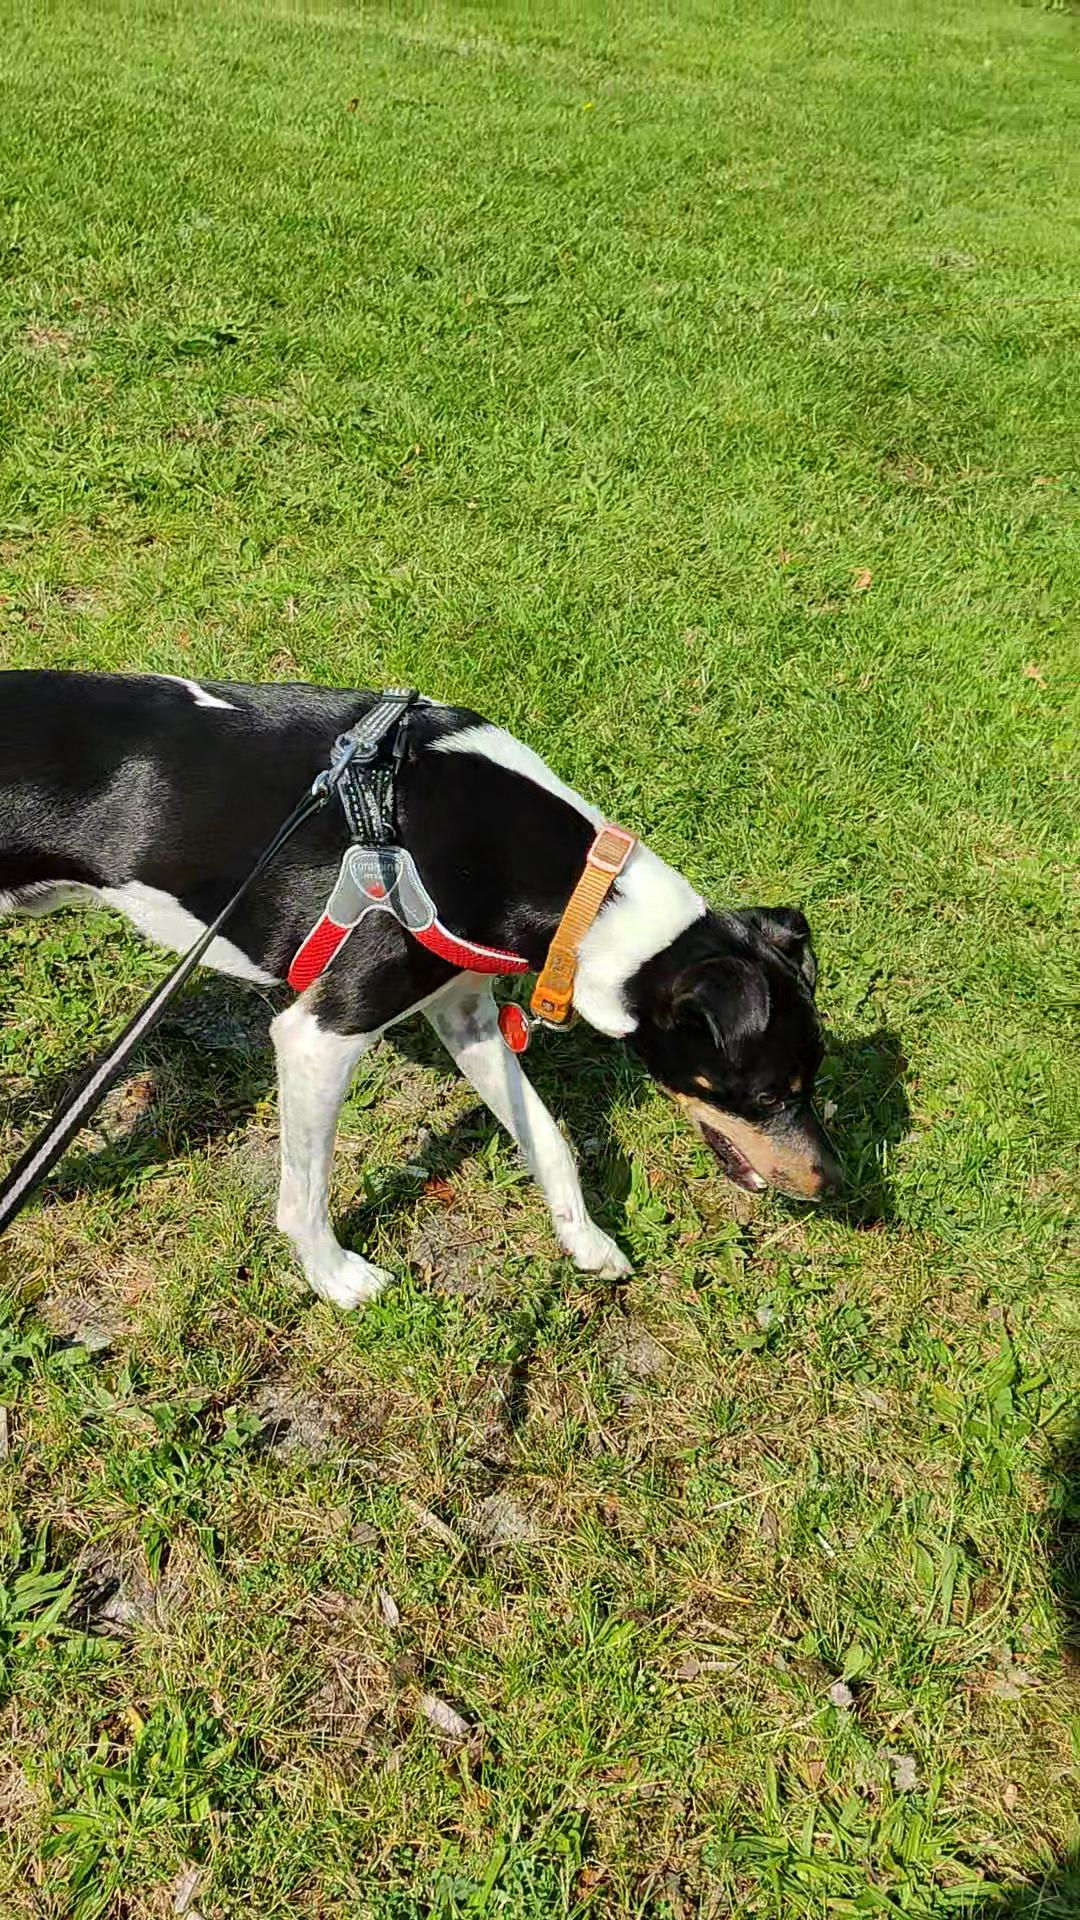Dog: (0, 659, 857, 1316)
